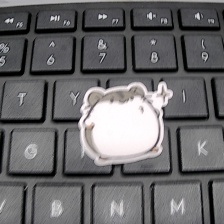mouse: (77, 76, 175, 166)
